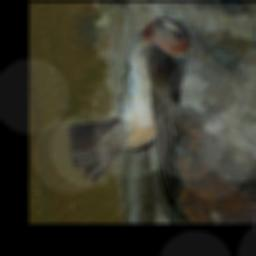Swallow: (67, 16, 192, 211)
